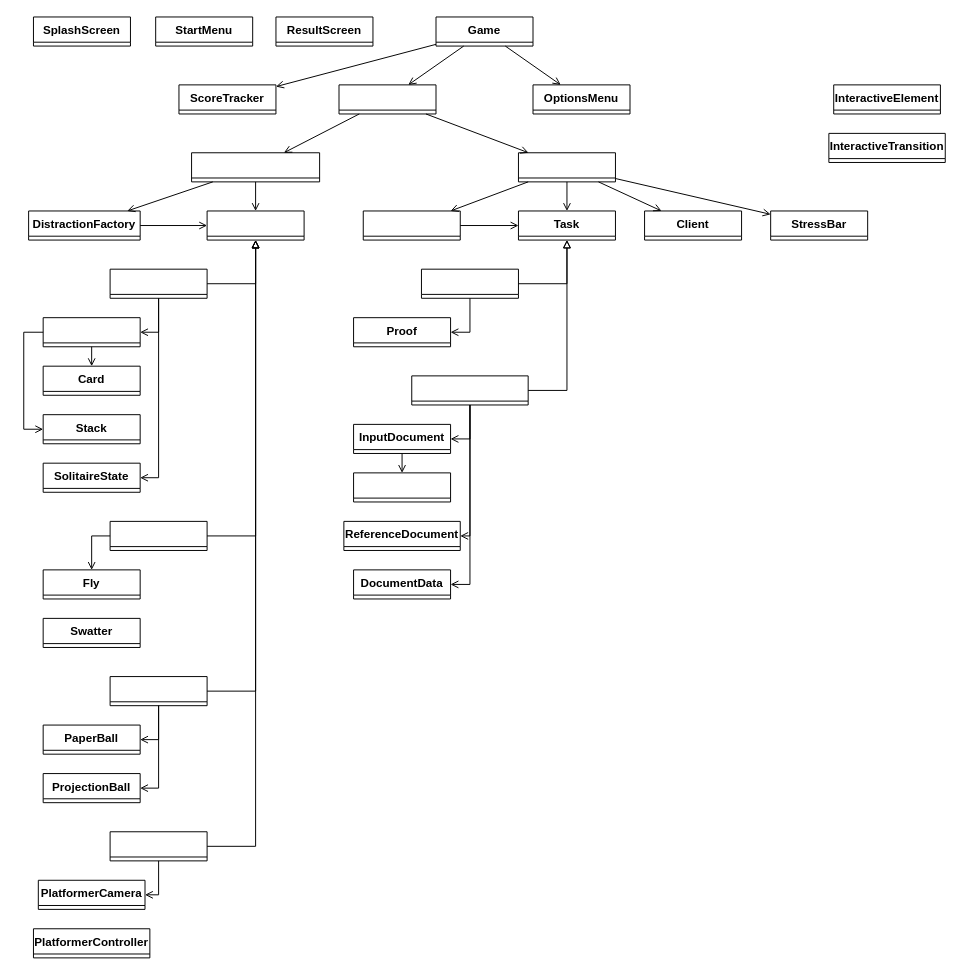
The diagram is 962 pixels wide and 975 high, and some of its shapes have lost their labels. Each missing label, with the box of its shape:
CompareDocuments: (411, 375, 528, 405)
Distraction: (206, 210, 304, 240)
DistractionManager: (191, 152, 320, 182)
FlySwatter: (109, 520, 207, 550)
InputLine: (353, 472, 451, 502)
PaperBasket: (109, 676, 207, 706)
Platformer: (109, 831, 207, 861)
PrintProof: (420, 268, 518, 298)
Solitaire: (109, 268, 207, 298)
Tableau: (42, 317, 140, 347)
TaskFactory: (362, 210, 460, 240)
TaskManager: (517, 152, 615, 182)
World: (338, 84, 436, 114)
